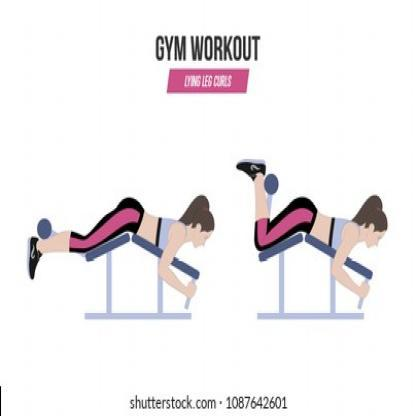reg curl machine: (25, 169, 217, 323), (233, 152, 390, 323)
